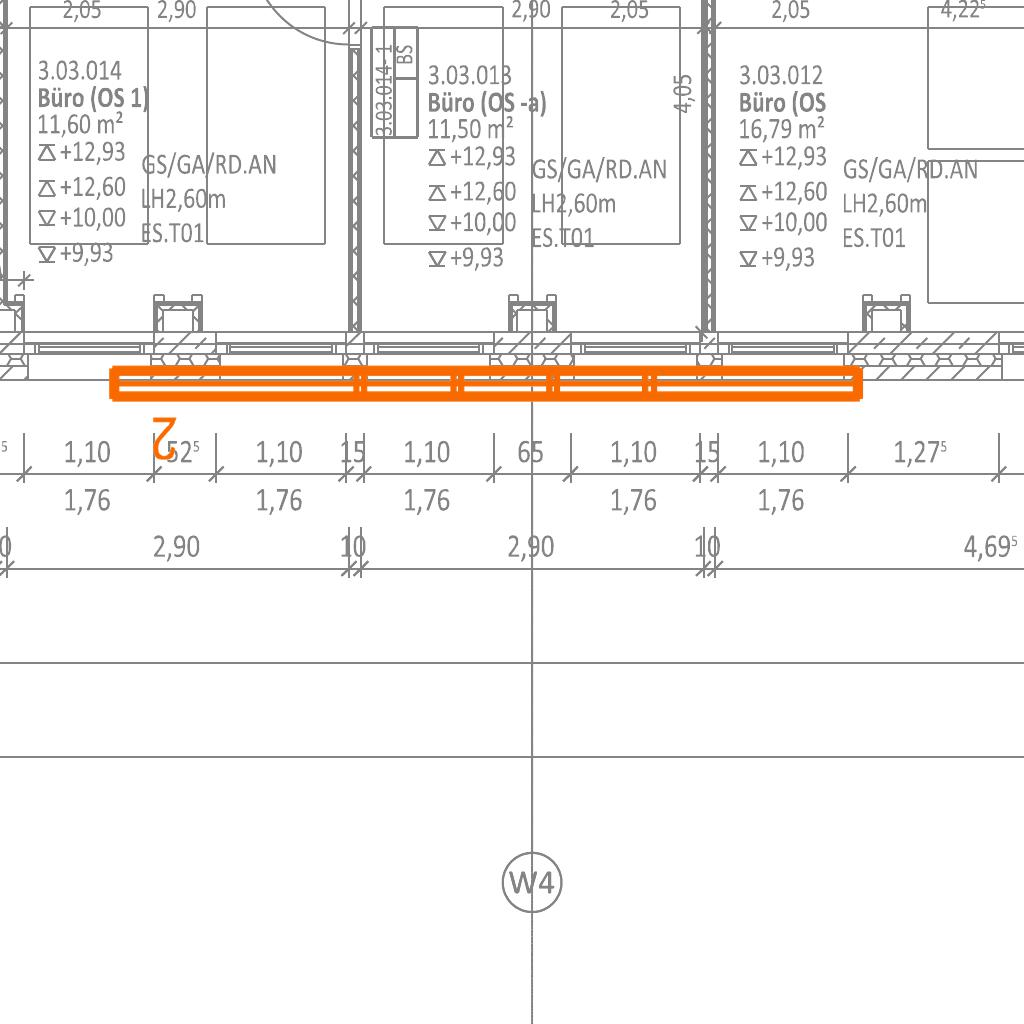Ambulanz_Pendelleuchte_LED: (100, 353, 874, 465)
